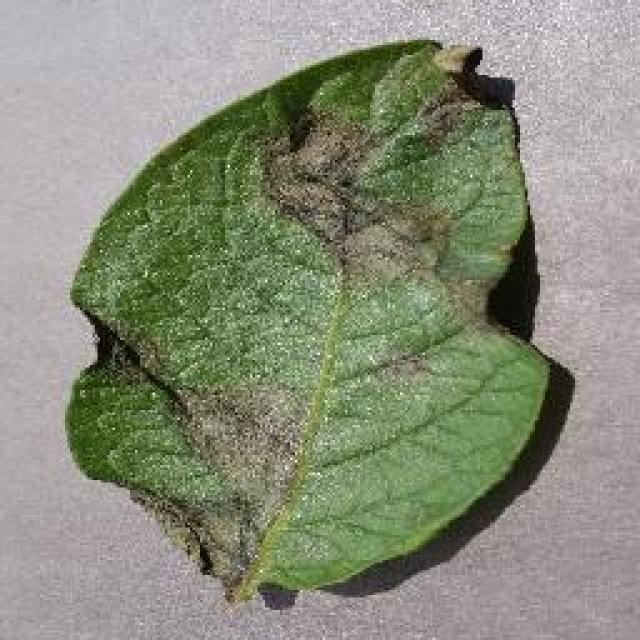late_blight: (60, 35, 558, 607)
